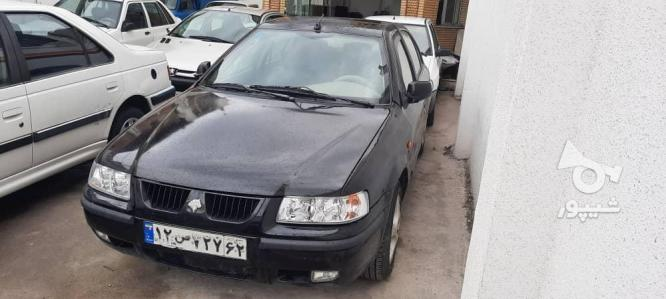car: (141, 221, 247, 262)
